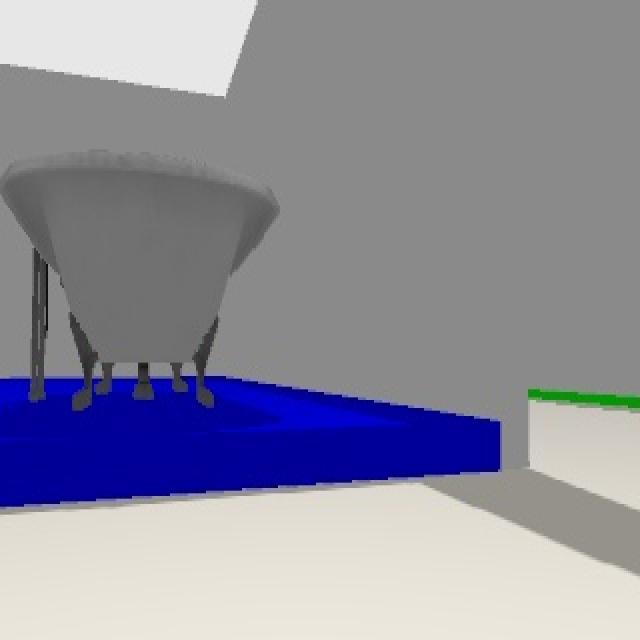bathtub: (2, 149, 282, 411)
